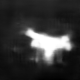plane: (20, 25, 73, 67)
